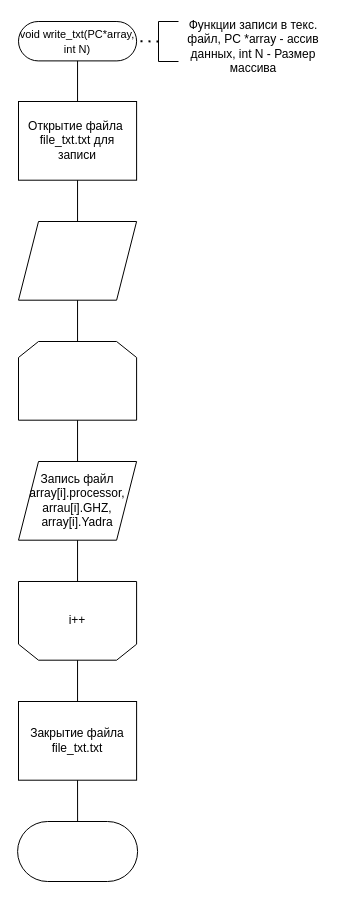
Some shapes in this 346 by 899 pixel diagram are drawn without their labels. Here are the shapes that lost their labels. From the top down, the centre of each, then its label:
point 77,260: Запись в файл "Процессор" "ГГц"....
point 77,380: Для i=0 до I<N
point 77,851: конец
